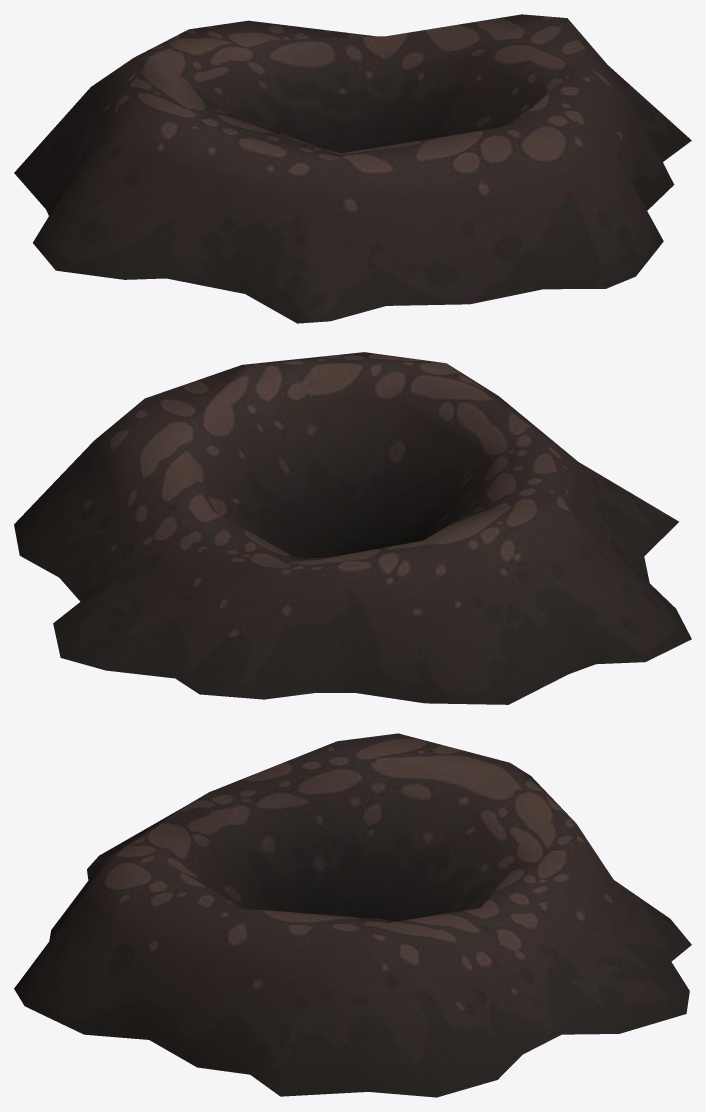
Rendered from DugSoil.glb.
3 renders of one model, top to bottom at view 1: azimuth 30°, elevation 25°; view 2: azimuth 150°, elevation 25°; view 3: azimuth 270°, elevation 25°, orthographic. The views are drawn at different scales.
Parts seen in each view (by area): view 1: DugSoil; view 2: DugSoil; view 3: DugSoil.
Part boxes in pixels (x1=…): DugSoil: x1=14, y1=14, x2=691, y2=323; DugSoil: x1=14, y1=352, x2=691, y2=704; DugSoil: x1=14, y1=733, x2=691, y2=1097.
Size of the model in its own units: 0.0885 by 0.0163 by 0.0831.
1 material, 1 textured.
